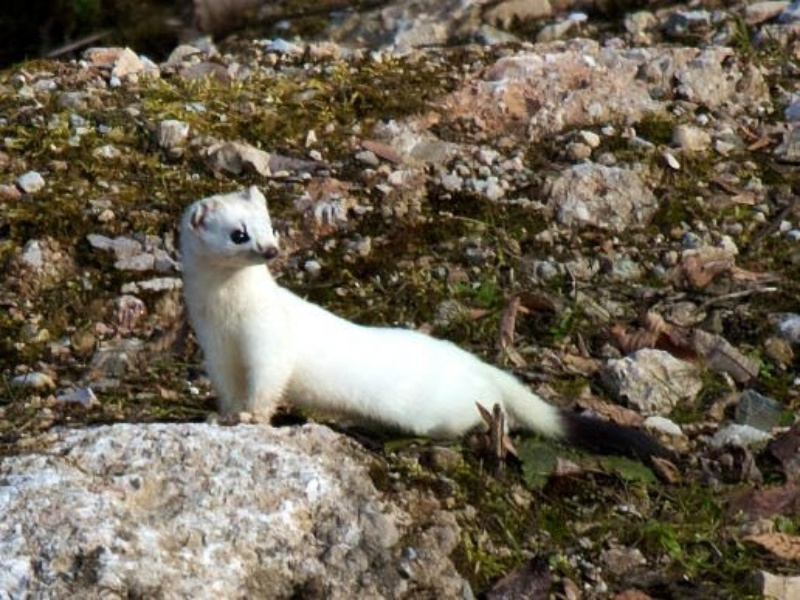minkish: (178, 187, 608, 468)
